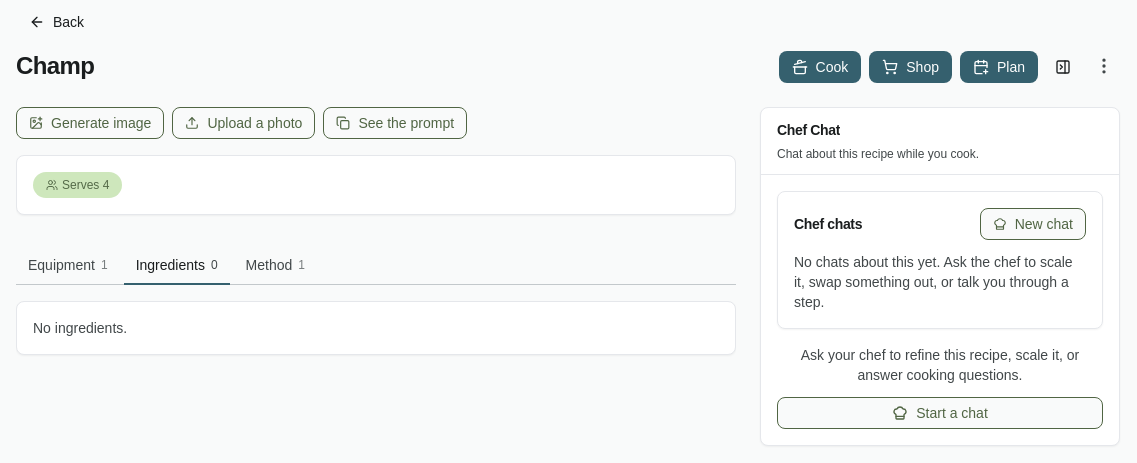
RecipeViewPage — accessories under their appliance › announces an accessory as part of the appliance row, with no parallel label
Click the tab "Equipment 1": coordinates (68, 266) [16,247,120,285]
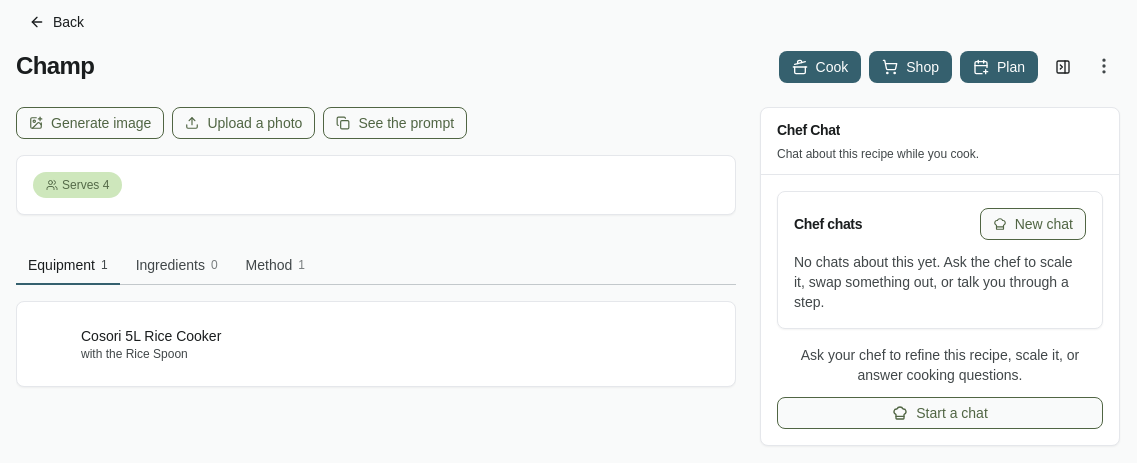
Now the number of list items is 1, box [81,328,221,361]
Now the list item shows "Cosori 5L Rice Cooker", box [81,328,221,344]
Now the list item shows "with the Rice Spoon", box [81,347,188,361]
